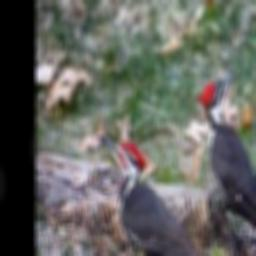Woodpecker: (99, 134, 208, 256), (198, 69, 256, 256)
